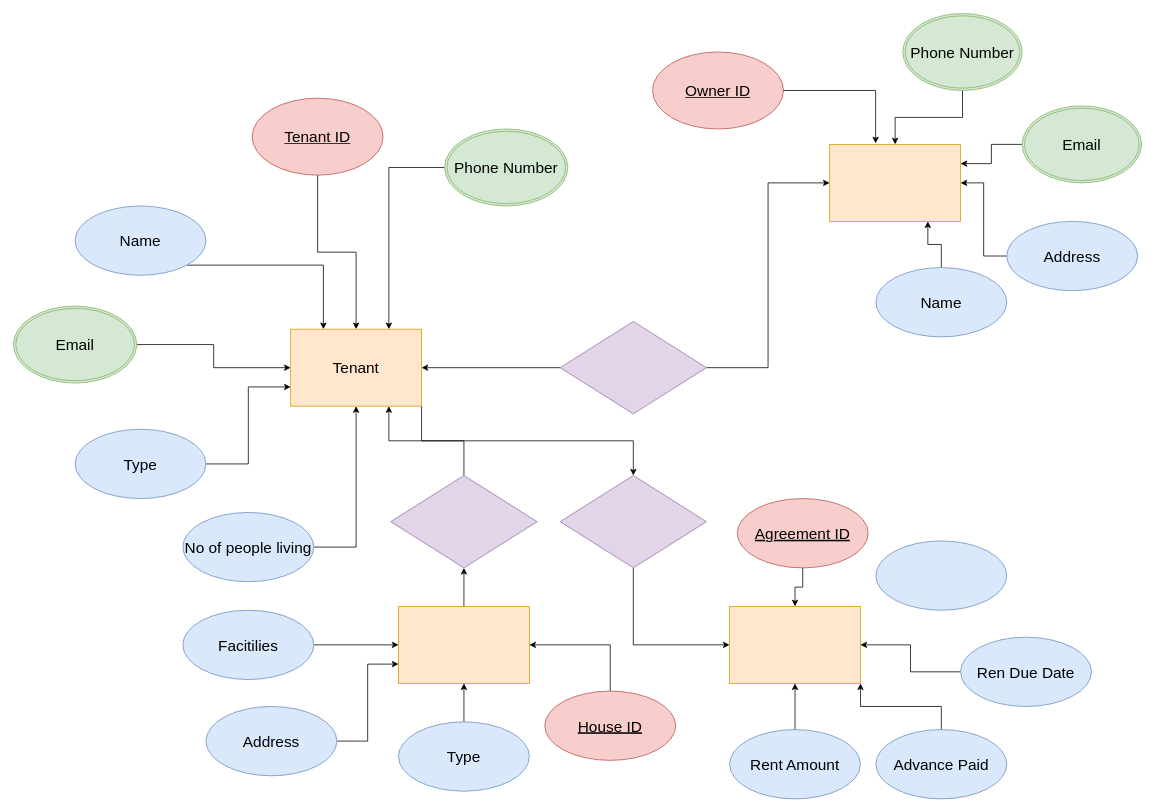
This 1155x812 diagram has some shape labels left out. Each missing label, with the centre of its shape:
Agreement: the point at 794,644
House: the point at 463,644
Obeys: the point at 632,521
Owner: the point at 895,182
Pays: the point at 632,367
Rules: the point at 941,575
Stays IN: the point at 463,521
